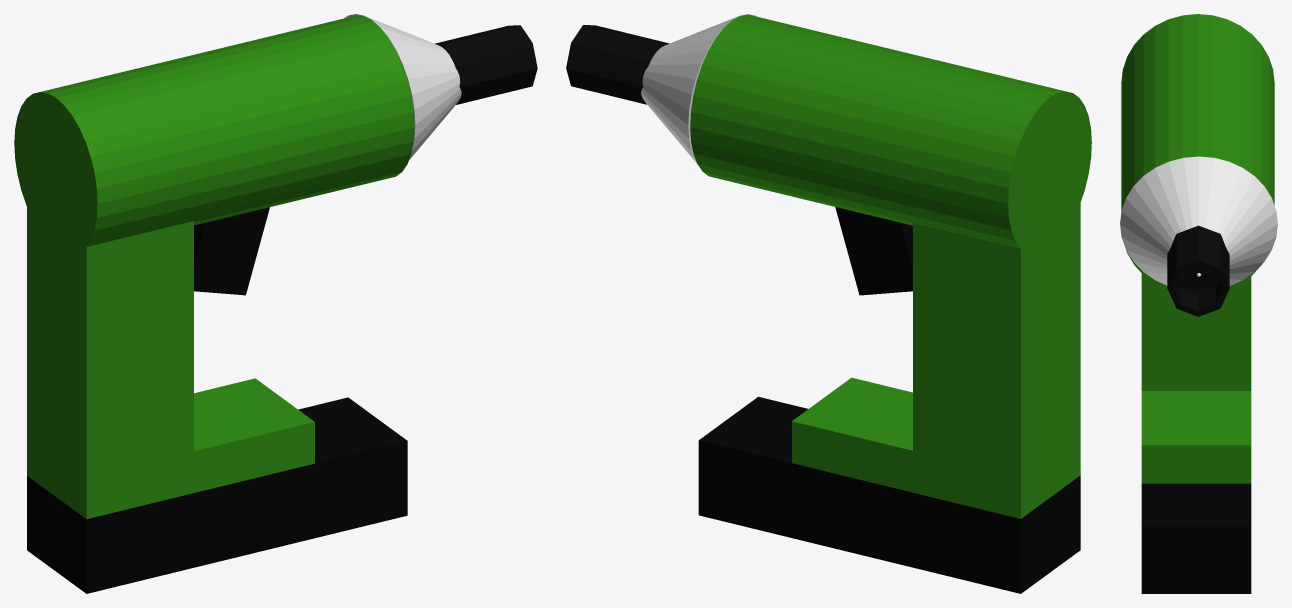
The model's file is Automatic_Screwdriver.fbx.
The picture shows the model from 3 angles, left to right: view 1: azimuth 30°, elevation 25°; view 2: azimuth 150°, elevation 25°; view 3: azimuth 270°, elevation 25°; orthographic projection. The views are drawn at different scales.
Parts seen in each view (by area): view 1: Cylinder, Cube.001, Cube, Cylinder.001, Cube.002, Cone.001; view 2: Cylinder, Cube.001, Cube, Cylinder.001, Cube.002, Cone.001; view 3: Cylinder, Cube.001, Cone.001, Cube, Cylinder.001, Plane.002, Plane.001.
Boxes of the visible parts, box(x1,y1,x2,y2) form: Cylinder: box(14, 15, 414, 254); Cube.001: box(27, 207, 314, 519); Cube: box(27, 397, 407, 593); Cylinder.001: box(435, 25, 537, 104); Cube.002: box(194, 207, 269, 295); Cone.001: box(344, 14, 461, 159); Cylinder: box(690, 14, 1091, 254); Cube.001: box(792, 203, 1080, 518); Cube: box(698, 396, 1080, 593); Cylinder.001: box(566, 25, 669, 104); Cube.002: box(835, 207, 912, 295); Cone.001: box(641, 14, 756, 163); Cylinder: box(1121, 14, 1274, 289); Cube.001: box(1141, 273, 1251, 483); Cone.001: box(1120, 156, 1277, 285); Cube: box(1141, 483, 1251, 593); Cylinder.001: box(1167, 225, 1229, 310); Plane.002: box(1167, 260, 1229, 316); Plane.001: box(1168, 261, 1229, 316).
Size of the model in its own units: 483 by 470 by 154.
